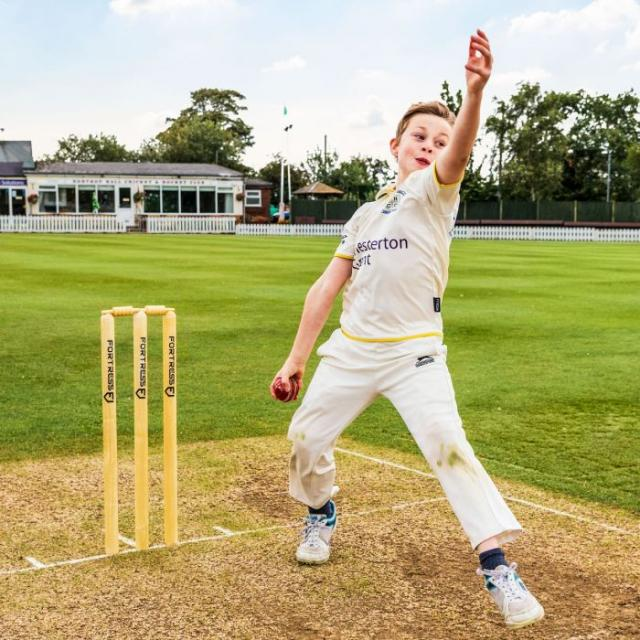stump: (97, 303, 182, 554)
